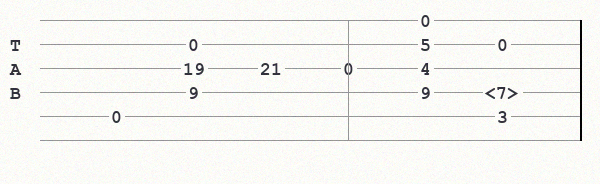0: (111, 108, 126, 124), (188, 36, 203, 52), (343, 60, 358, 76), (420, 12, 435, 28), (497, 36, 512, 52)
19: (183, 60, 209, 76)
21: (260, 60, 286, 76)
3: (497, 108, 512, 124)
4: (420, 60, 435, 76)
5: (420, 36, 435, 52)
9: (188, 84, 203, 100), (420, 84, 435, 100)
harmonic: (485, 84, 524, 100)
